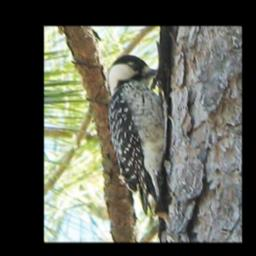Woodpecker: (108, 53, 169, 219)
